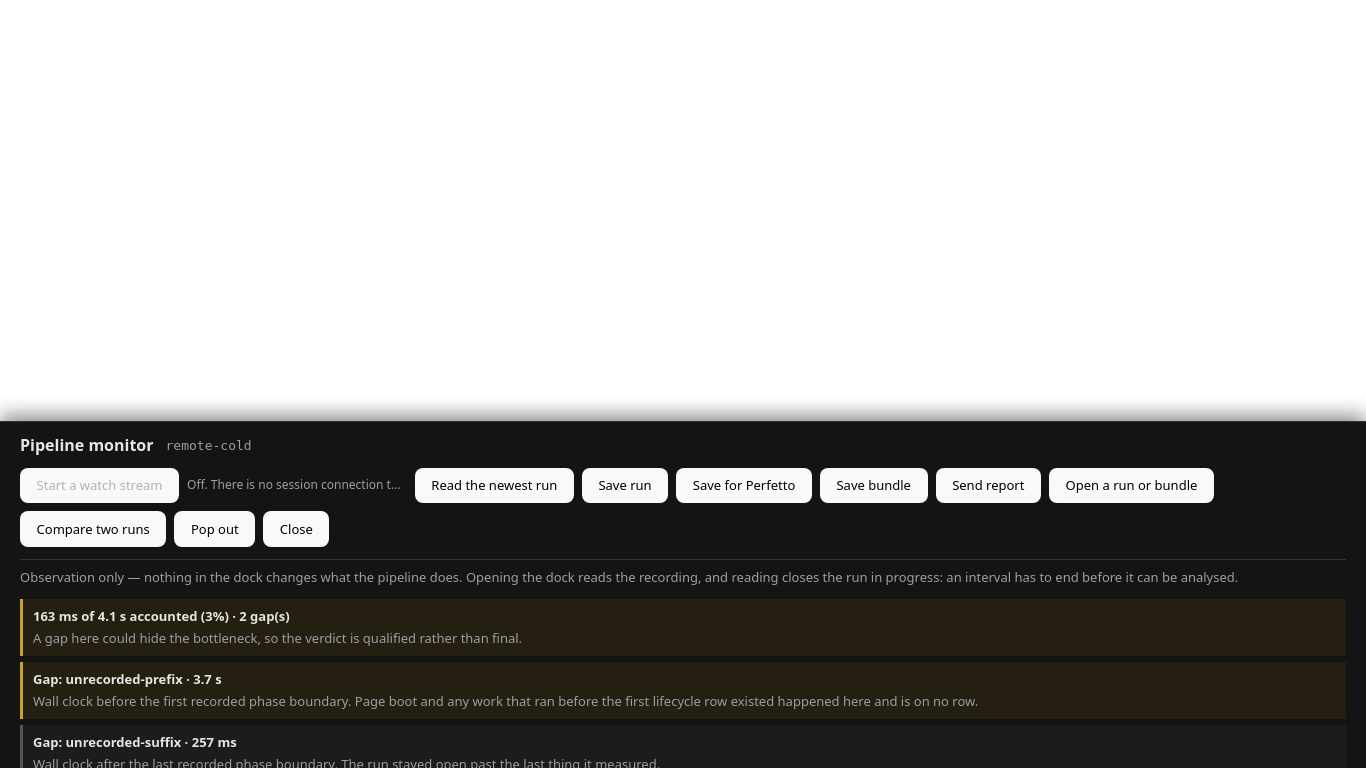
Test case: popping out › says so when the browser blocked the window, and stays in the tab
What coordinates should you click on to do the following:
click the button with test id "monitor-popout"
I would click on:
 (215, 529)
Its box is [174,511,255,547].
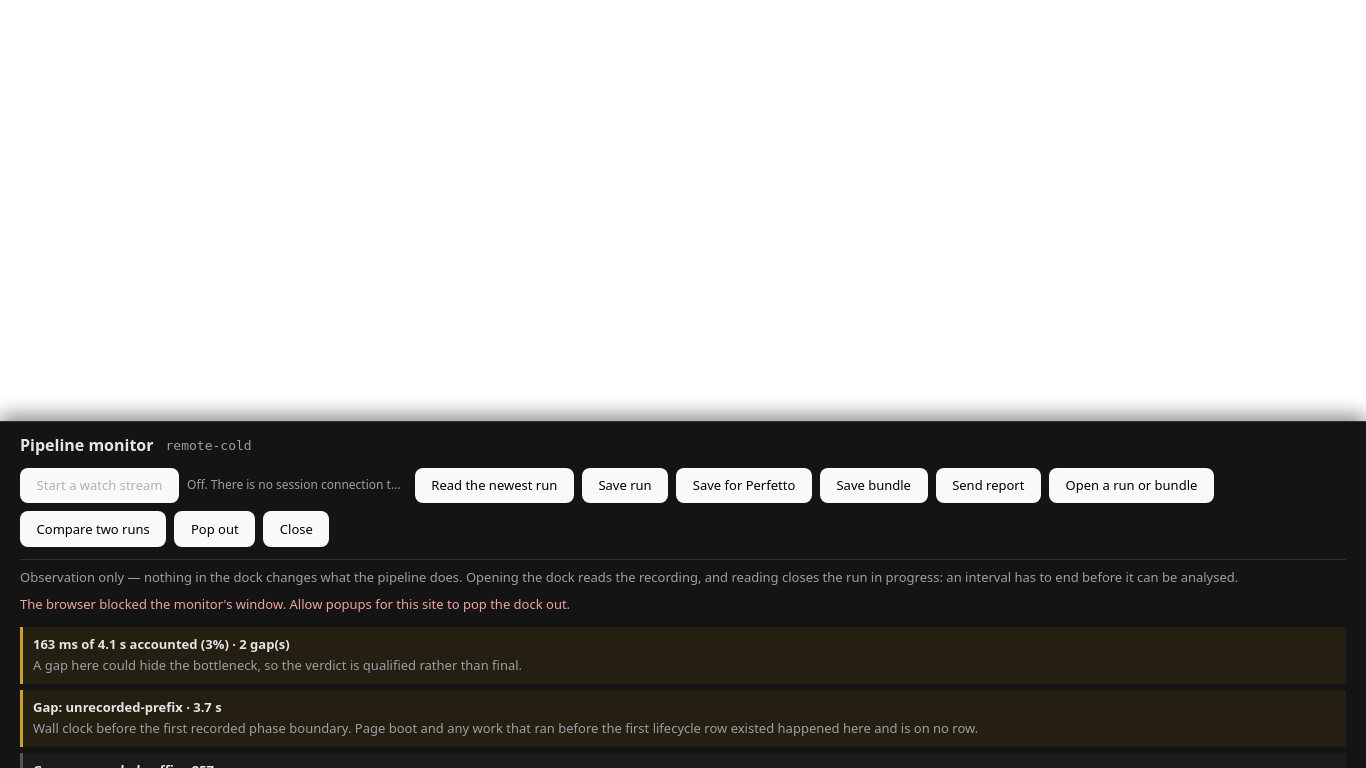
Check: the element with test id "monitor-dock" is shown, box [0,421,1365,767]
Check: the text with test id "monitor-popout-failed" shows "blocked", box [20,595,570,613]
